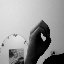o: (27, 18, 53, 54)
